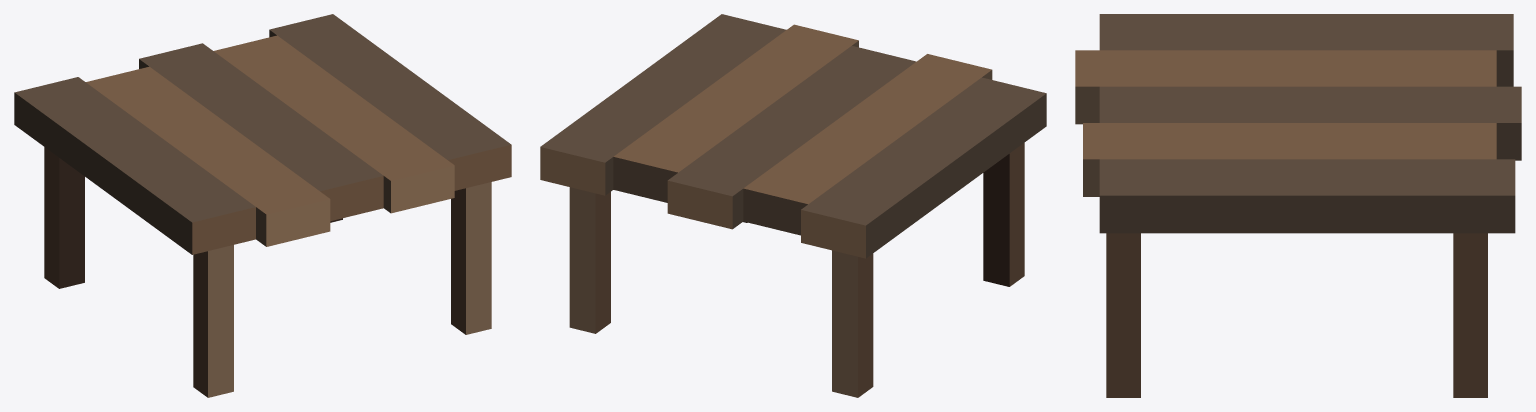
File: TB_D_Bd_Tower_Roof_A.FBX
3 views of the same model, side by side, from view 1: azimuth 30°, elevation 25°; view 2: azimuth 150°, elevation 25°; view 3: azimuth 270°, elevation 25° (orthographic). The views are drawn at different scales.
Parts seen in each view (by area): view 1: TB_D_Bd_Tower_Roof_A; view 2: TB_D_Bd_Tower_Roof_A; view 3: TB_D_Bd_Tower_Roof_A.
Boxes of the visible parts, x1,y1,x2,y2 form: TB_D_Bd_Tower_Roof_A: (14, 14, 511, 397); TB_D_Bd_Tower_Roof_A: (540, 14, 1046, 397); TB_D_Bd_Tower_Roof_A: (1075, 14, 1521, 397).
Size of the model in its own units: 2.68 by 1.46 by 2.79.
